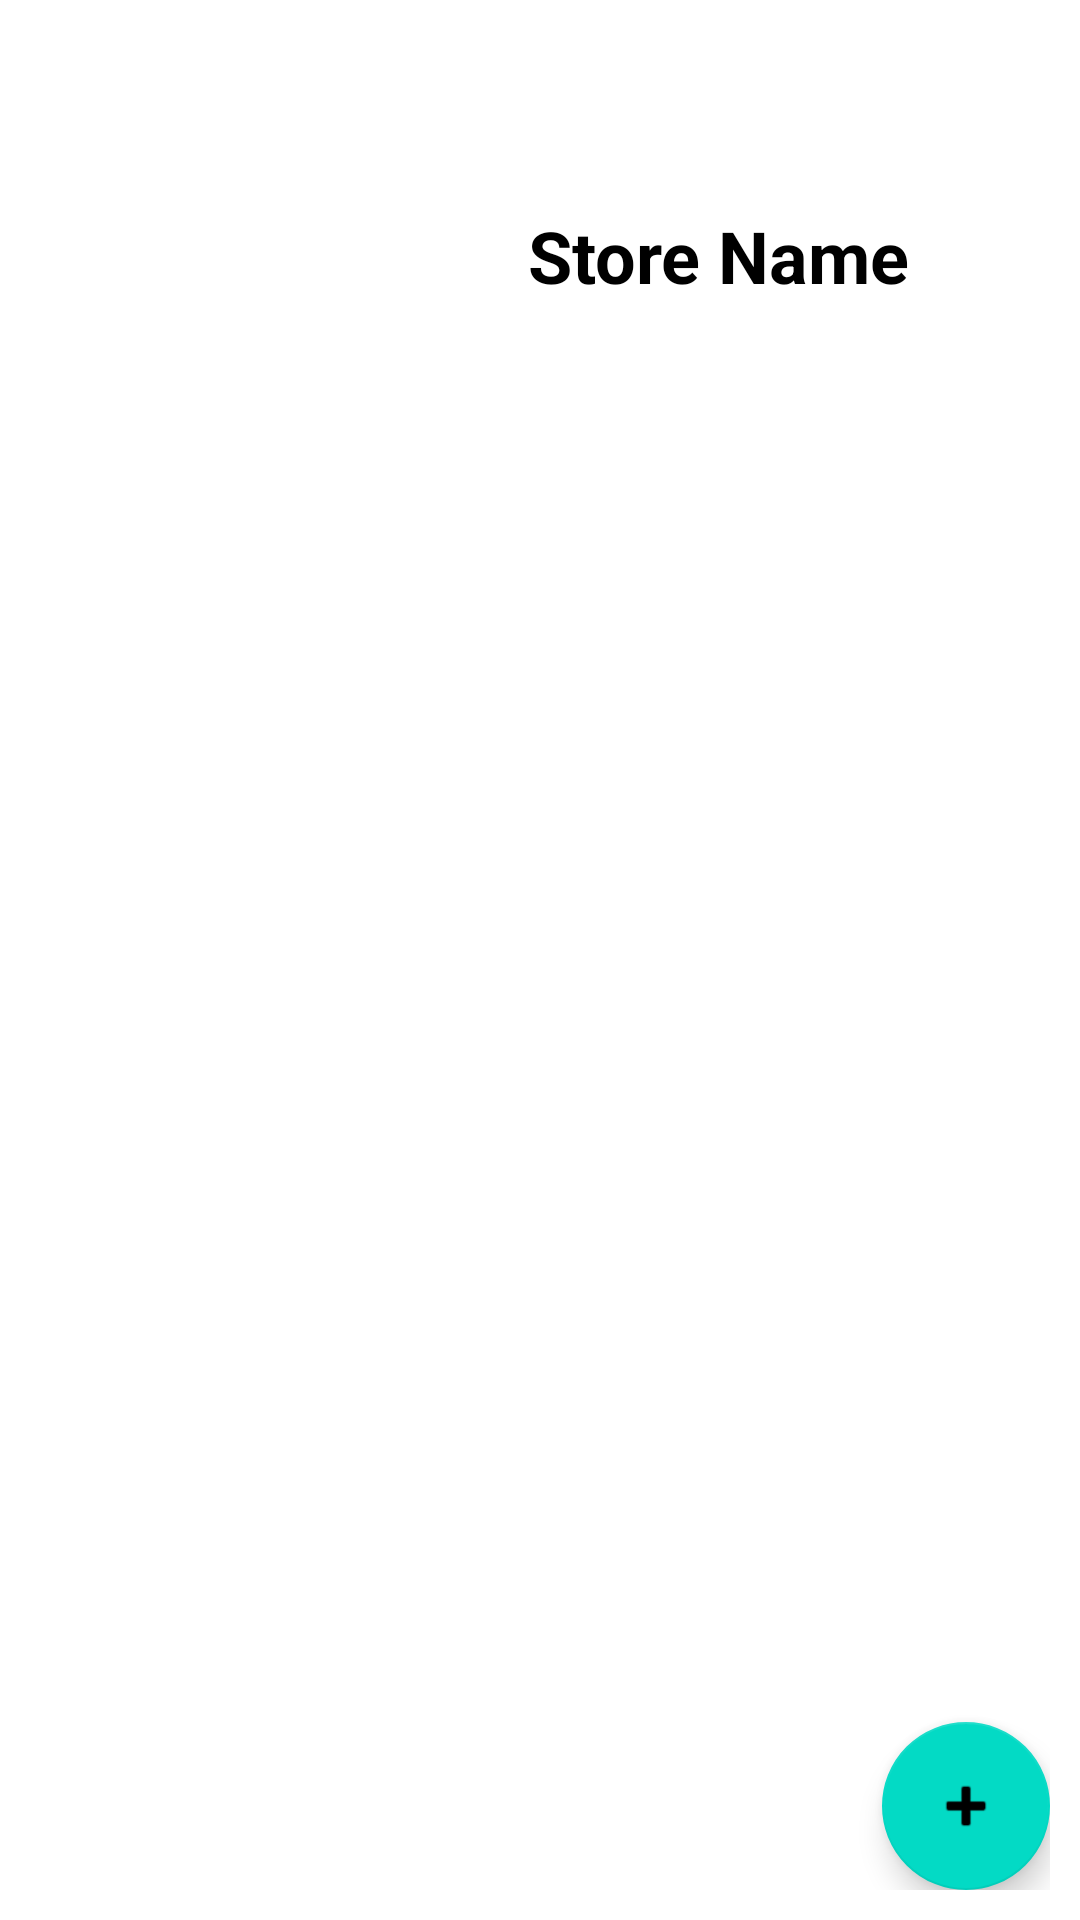

Where icons sit on this 1080px x 1920px app screen, as (left=x1, top=y1, right=x2, bottom=y2):
add: (left=882, top=1722, right=1050, bottom=1890)
